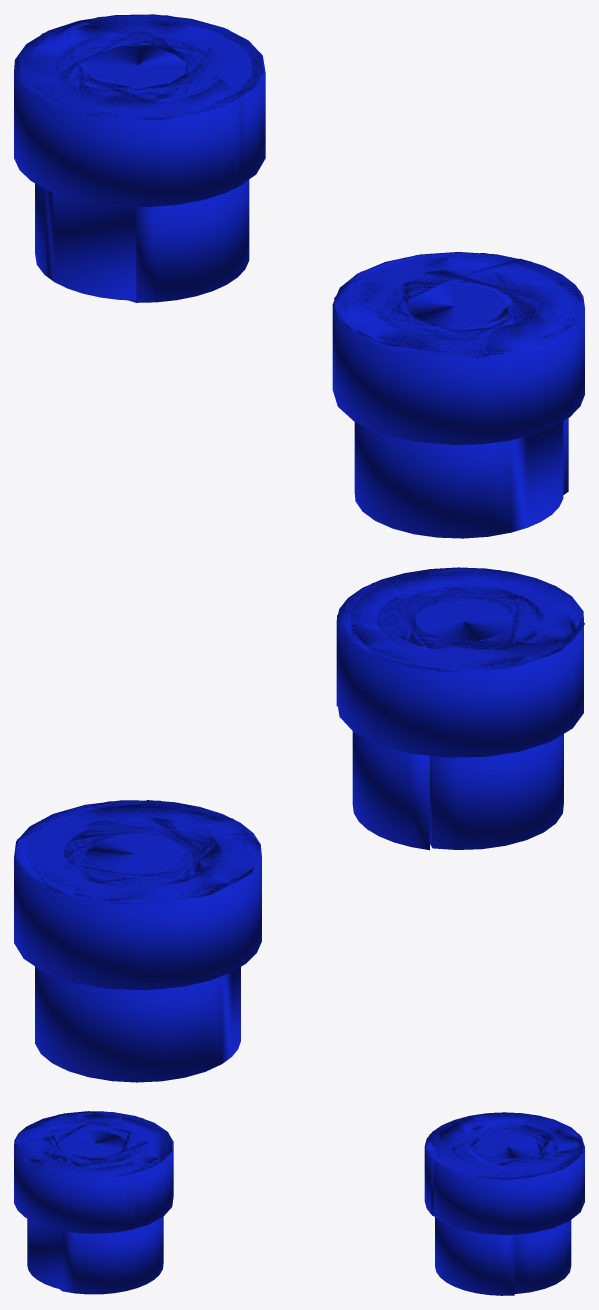
The model's file is tuyeau_element_000073.obj.
3 views of the same model, one above another, from view 1: azimuth 30°, elevation 25°; view 2: azimuth 150°, elevation 25°; view 3: azimuth 270°, elevation 25° (orthographic). The views are drawn at different scales.
Visible parts, largest first — view 1: tuyeau1_Cube.014, tuyeau2_Cube.017; view 2: tuyeau2_Cube.017, tuyeau1_Cube.014; view 3: tuyeau1_Cube.014, tuyeau2_Cube.017.
Boxes of the visible parts, x1=… form: tuyeau1_Cube.014: x1=14, y1=14, x2=265, y2=302; tuyeau2_Cube.017: x1=332, y1=252, x2=584, y2=538; tuyeau2_Cube.017: x1=336, y1=567, x2=584, y2=850; tuyeau1_Cube.014: x1=14, y1=800, x2=261, y2=1082; tuyeau1_Cube.014: x1=424, y1=1112, x2=584, y2=1295; tuyeau2_Cube.017: x1=14, y1=1111, x2=173, y2=1294.
Bounding box in the file's own units: 3594 × 2917 × 12566.
